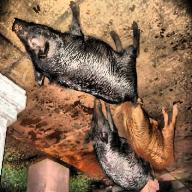boar: (6, 13, 150, 104), (79, 98, 154, 190)
